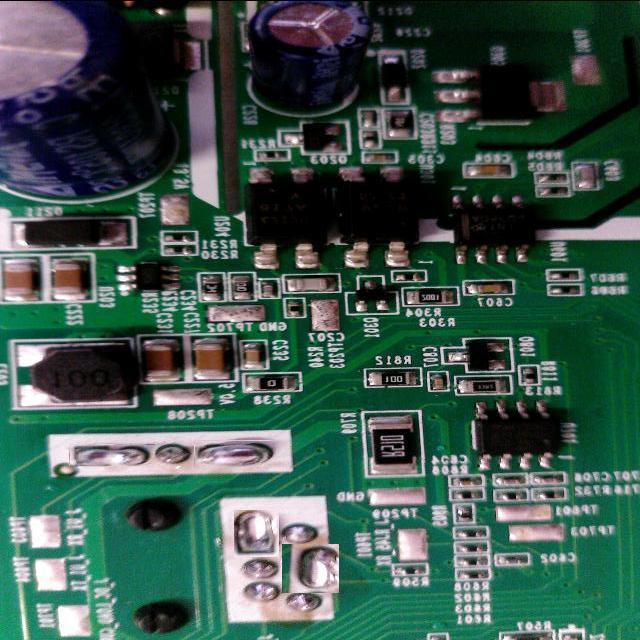Short_circuit: (282, 544, 339, 593), (194, 440, 276, 467), (234, 510, 279, 557), (69, 444, 155, 466)
